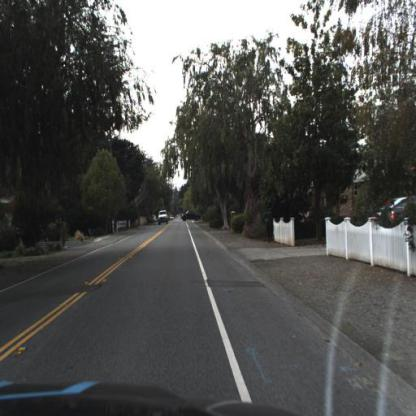car: (176, 204, 205, 225), (154, 207, 170, 228)
